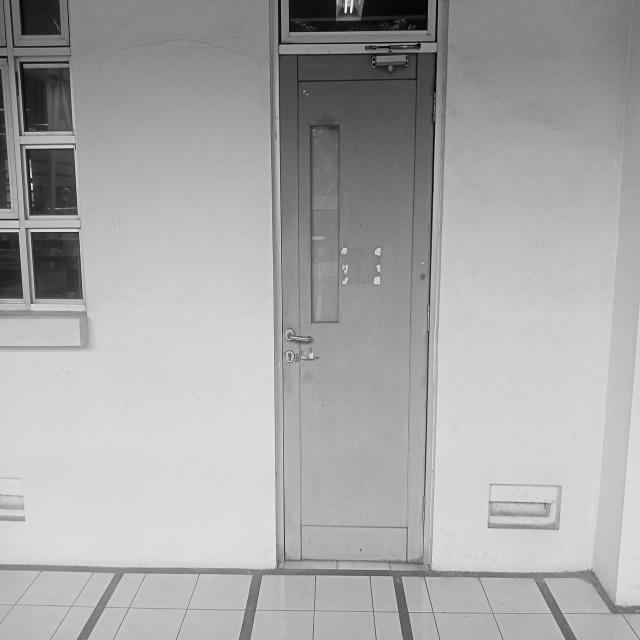door: (274, 48, 438, 577)
